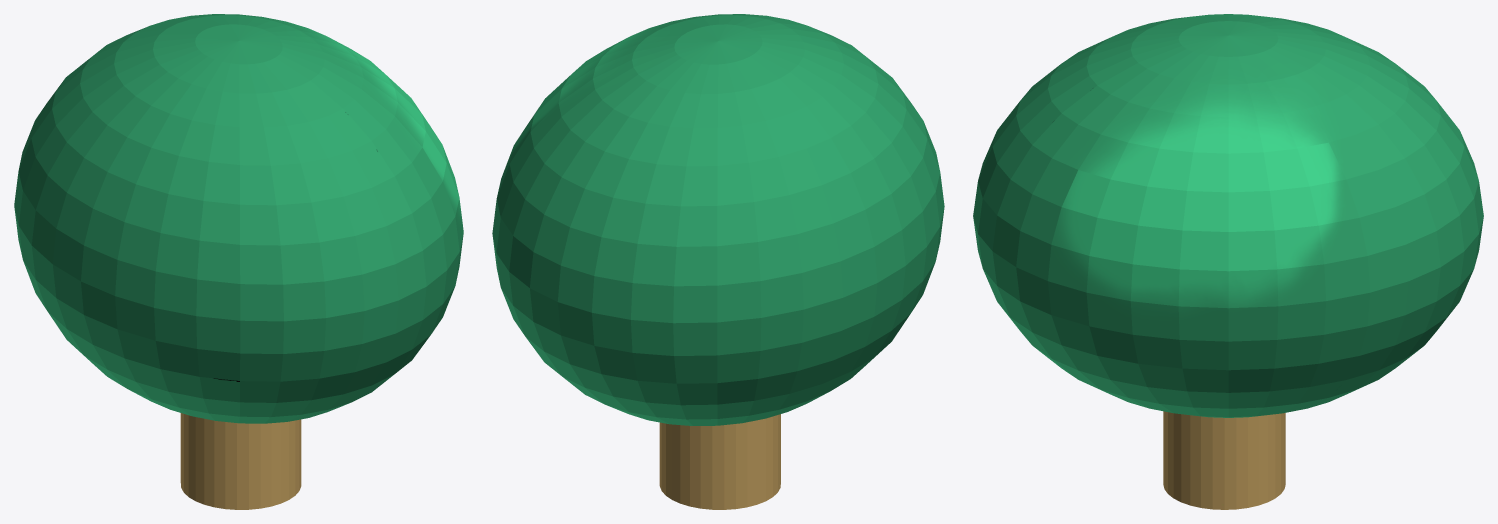
The model's file is Small Tree ModelT Darker.fbx.
3 renders of one model, left to right at view 1: azimuth 30°, elevation 25°; view 2: azimuth 150°, elevation 25°; view 3: azimuth 270°, elevation 25°, orthographic.
Parts seen in each view (by area): view 1: Cylinder; view 2: Cylinder; view 3: Cylinder.
Boxes of the visible parts, x1,y1,x2,y2 form: Cylinder: (14, 14, 463, 509); Cylinder: (492, 14, 944, 509); Cylinder: (973, 14, 1483, 509).
Bounding box in the file's own units: 41.79 × 47.4 × 48.93.
